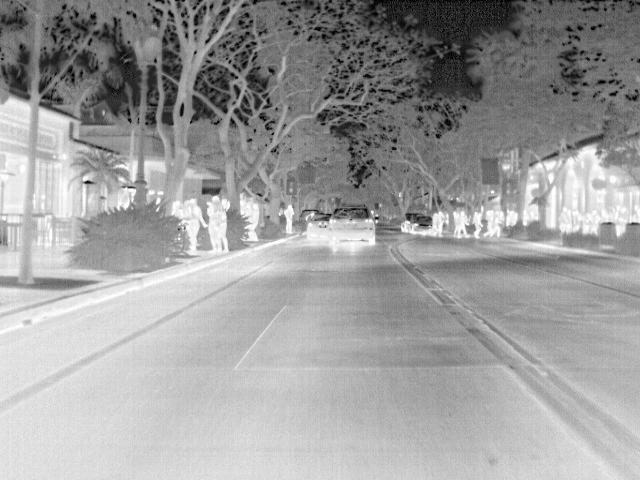car: (328, 206, 378, 244), (305, 212, 331, 240), (402, 212, 424, 230), (413, 218, 433, 234)
person: (186, 197, 206, 249), (207, 198, 222, 250), (248, 200, 263, 242), (219, 203, 231, 252), (487, 210, 504, 239), (283, 204, 296, 236), (469, 212, 483, 238), (589, 209, 602, 235), (456, 211, 468, 239), (436, 210, 448, 236)
